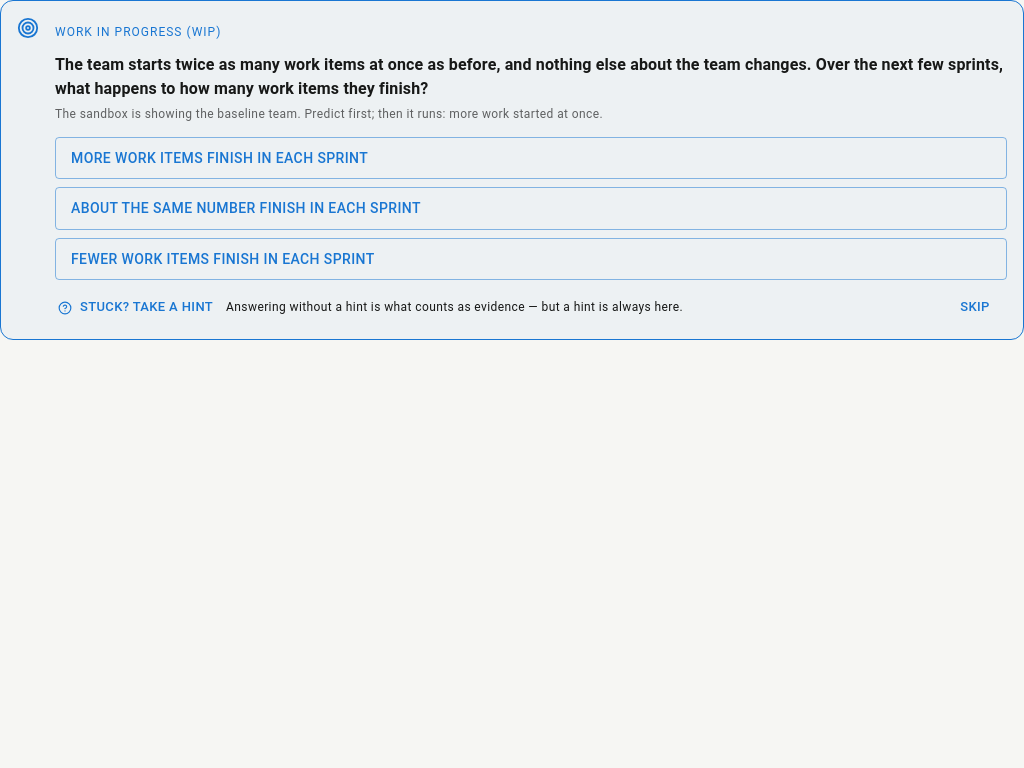
Test: the guided loop › names what the sandbox cannot establish about a real organisation
Click the button "About the same number finish in each sprint" at (246, 208), box [55, 187, 1007, 230]
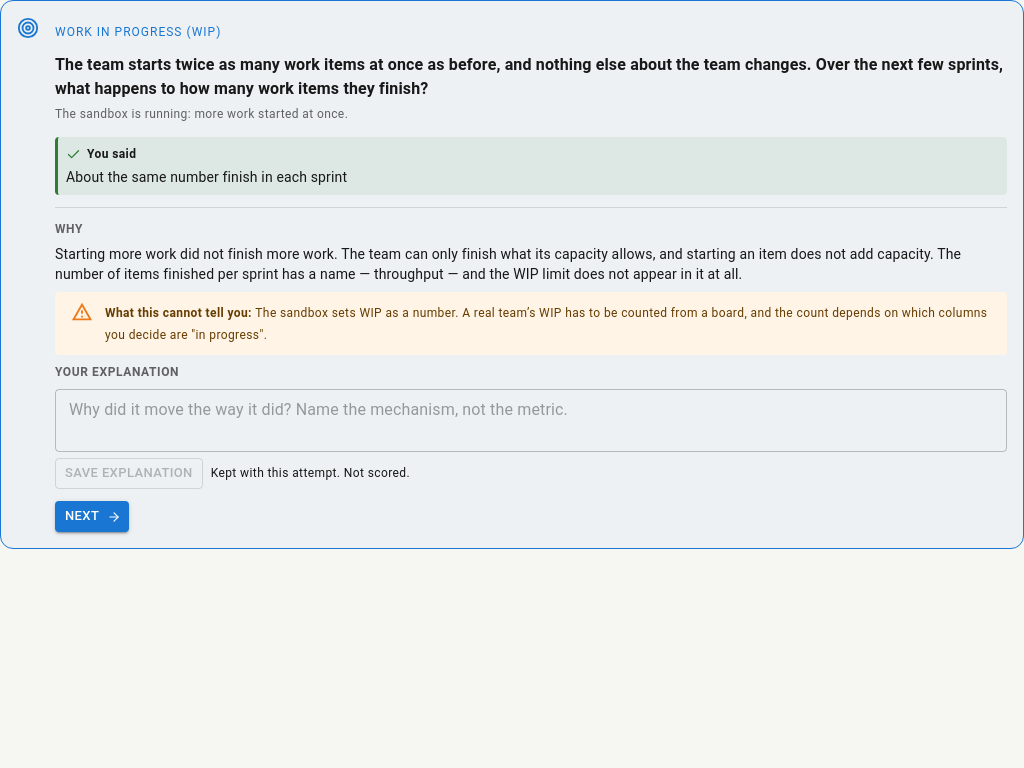
Expected: the text "What this cannot tell you:" is shown, [105, 306, 255, 320]
Expected: the text "The sandbox sets WIP as a number. A real" is shown, [105, 306, 987, 342]
